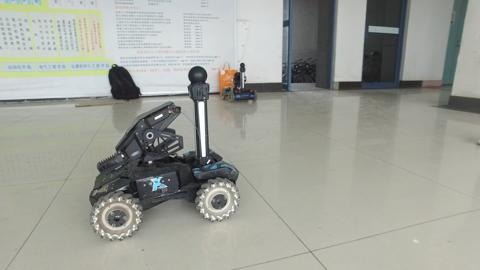bag: (97, 59, 148, 111)
chariot: (75, 64, 246, 244), (215, 58, 263, 106)
